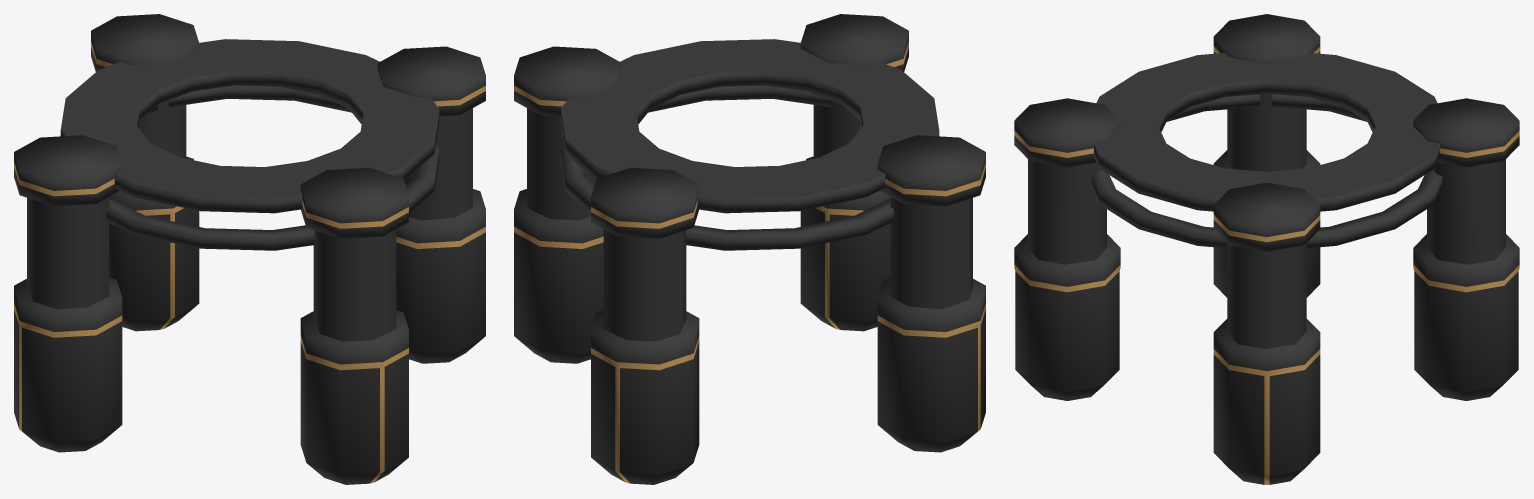
Rendered from UpgradeMachine.fbx.
The picture shows the model from 3 angles, left to right: view 1: azimuth 30°, elevation 25°; view 2: azimuth 150°, elevation 25°; view 3: azimuth 270°, elevation 25°; orthographic projection. The views are drawn at different scales.
Visible parts, largest first — view 1: Cylinder_001, Cylinder_003, Cylinder_002; view 2: Cylinder_001, Cylinder_003, Cylinder_002; view 3: Cylinder_003, Cylinder_001, Cylinder_002.
Boxes of the visible parts, x1,y1,x2,y2 form: Cylinder_001: (14,156,485,484); Cylinder_003: (14,14,485,341); Cylinder_002: (60,39,439,250); Cylinder_001: (514,156,985,484); Cylinder_003: (514,14,985,341); Cylinder_002: (560,39,939,250); Cylinder_003: (1014,14,1519,348); Cylinder_001: (1014,150,1519,484); Cylinder_002: (1091,53,1442,248).
Size of the model in its own units: 335 by 194 by 335.
Materials: 1 (1 with a texture image).
